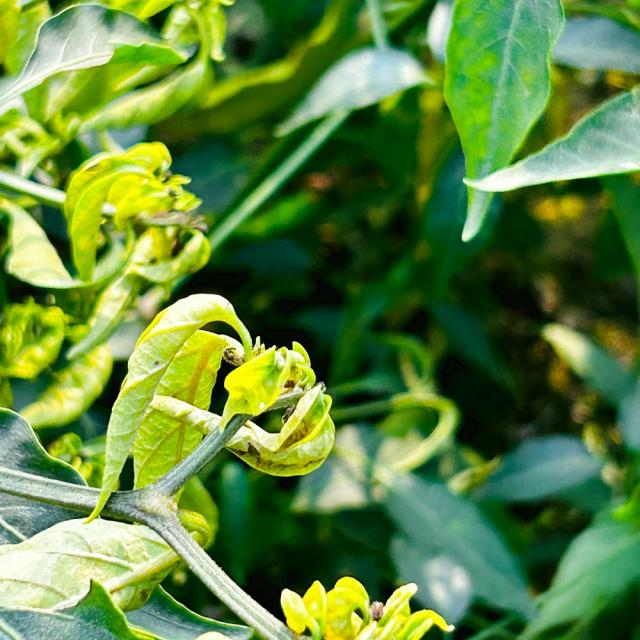Chilli_Leaf_Curl: (1, 1, 638, 638), (0, 292, 452, 638), (82, 292, 336, 525), (2, 139, 211, 361), (442, 0, 566, 242), (1, 1, 188, 115), (0, 513, 203, 616), (460, 84, 639, 192), (218, 340, 336, 477), (272, 44, 434, 138), (278, 575, 454, 638)
